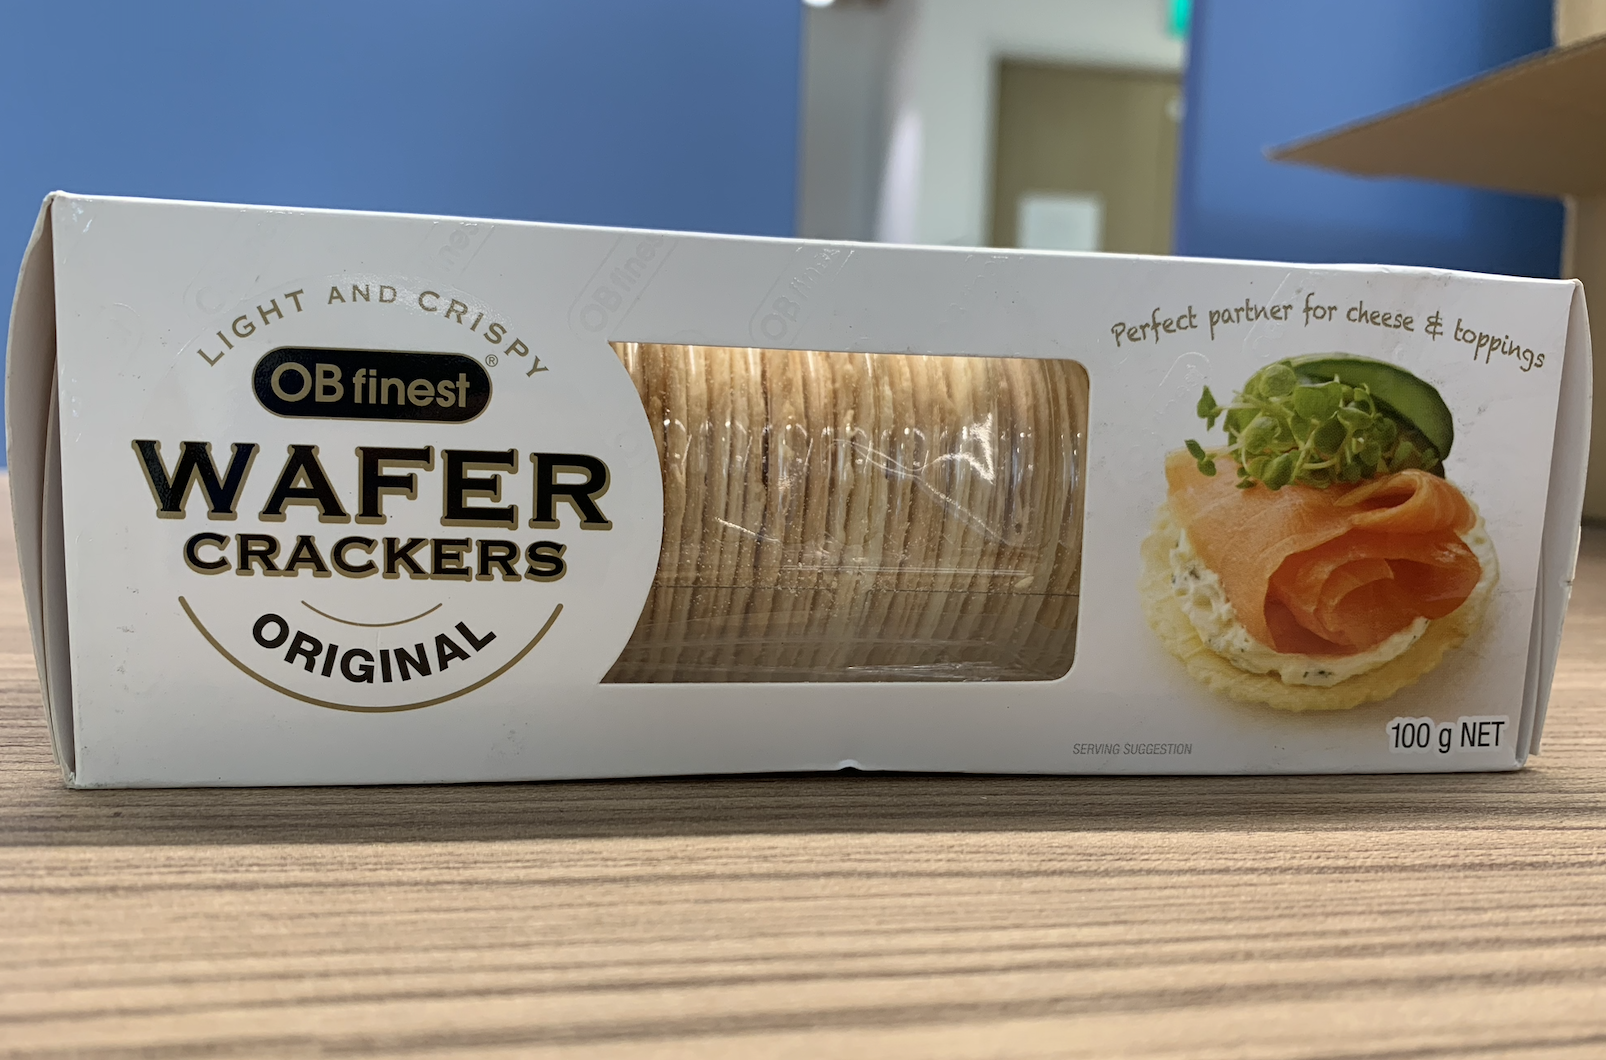crackers_150g: (121, 272, 1537, 763)
